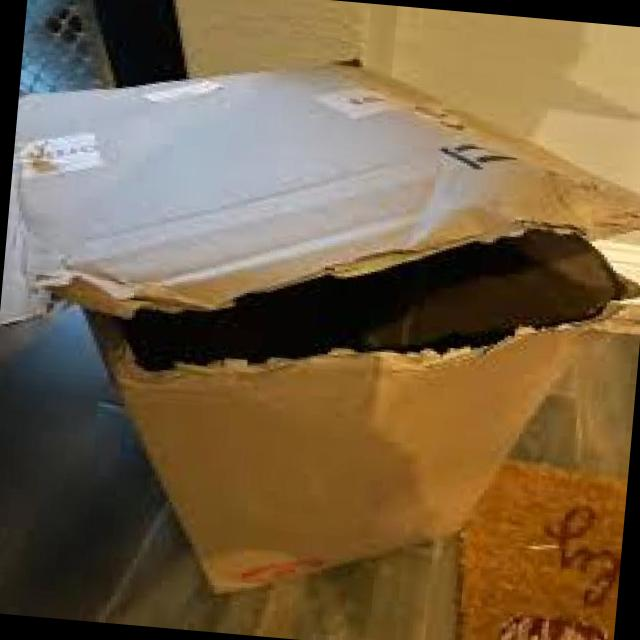box: (0, 58, 640, 595)
tear: (122, 231, 640, 369)
